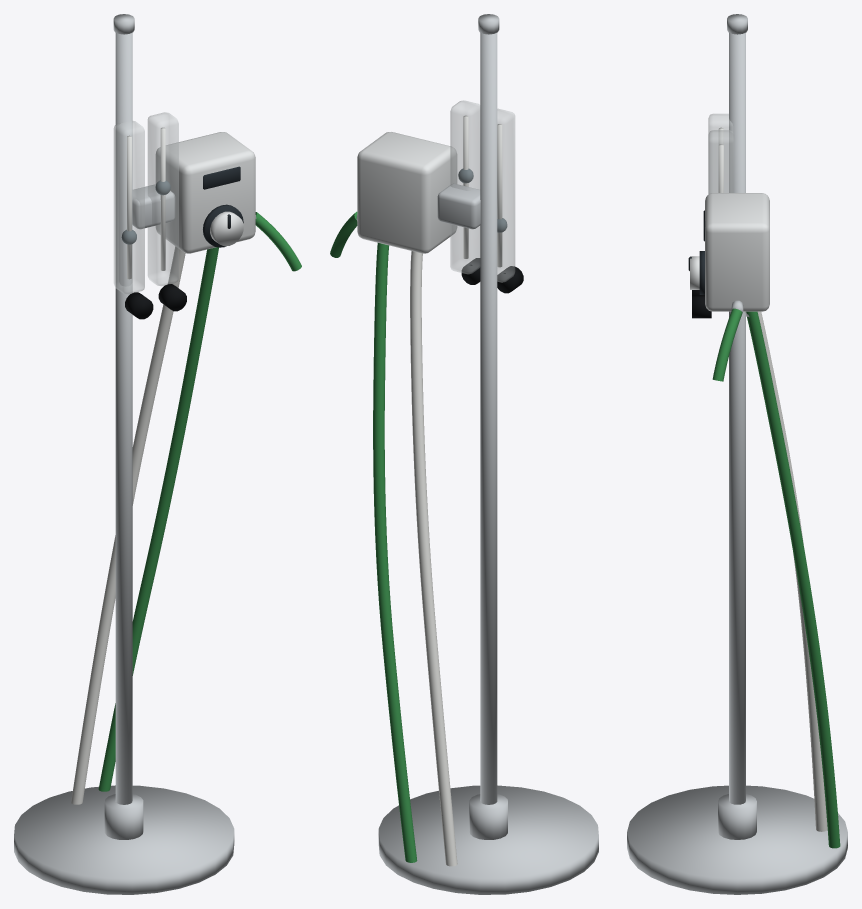
The model's file is sweep-gas-blender.glb.
3 views of the same model, side by side, from view 1: azimuth 30°, elevation 25°; view 2: azimuth 150°, elevation 25°; view 3: azimuth 270°, elevation 25° (orthographic).
Visible parts, largest first — view 1: sweep_gas_blender; view 2: sweep_gas_blender; view 3: sweep_gas_blender.
Boxes of the visible parts, x1,y1,x2,y2 form: sweep_gas_blender: (14, 14, 301, 894); sweep_gas_blender: (330, 14, 598, 894); sweep_gas_blender: (627, 14, 847, 894).
Bounding box in the file's own units: 0.4678 × 1.41 × 0.34.
